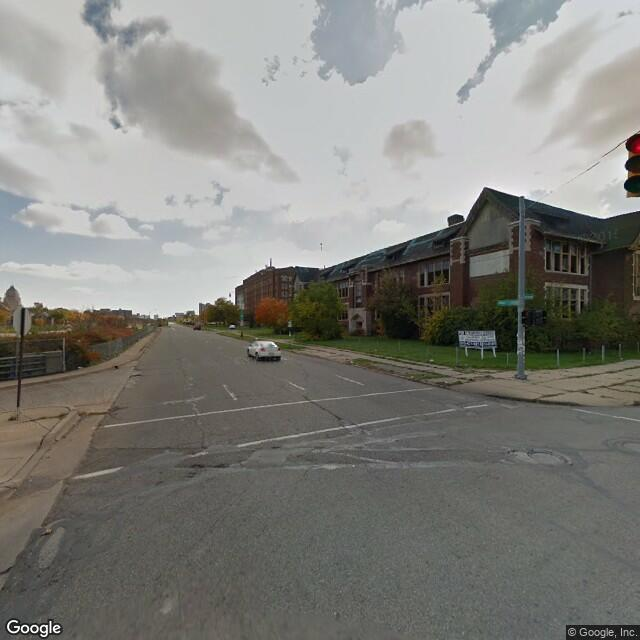litter: (44, 527, 51, 537), (426, 356, 436, 362), (349, 358, 355, 365), (78, 365, 86, 369)
